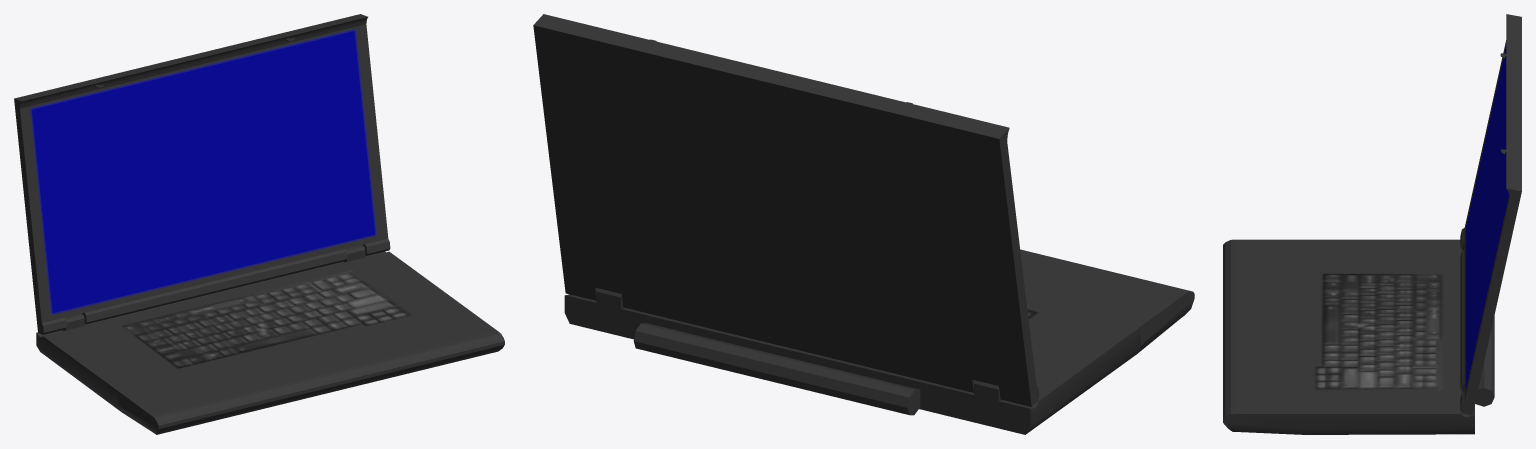
Rendered from Laptop_Painted.fbx.
The picture shows the model from 3 angles, left to right: view 1: azimuth 30°, elevation 25°; view 2: azimuth 150°, elevation 25°; view 3: azimuth 270°, elevation 25°; orthographic projection. The views are drawn at different scales.
Visible parts, largest first — view 1: Lid_Low_UV, Bottom_Low_UV; view 2: Lid_Low_UV, Bottom_Low_UV; view 3: Bottom_Low_UV, Lid_Low_UV.
Part boxes in pixels (x1,y1,x2,y2): Lid_Low_UV: (14,14,390,334); Bottom_Low_UV: (36,245,504,434); Lid_Low_UV: (533,14,1039,406); Bottom_Low_UV: (564,249,1194,434); Bottom_Low_UV: (1223,239,1494,434); Lid_Low_UV: (1460,14,1521,414).
Size of the model in its own units: 76.12 by 50.65 by 55.05.
